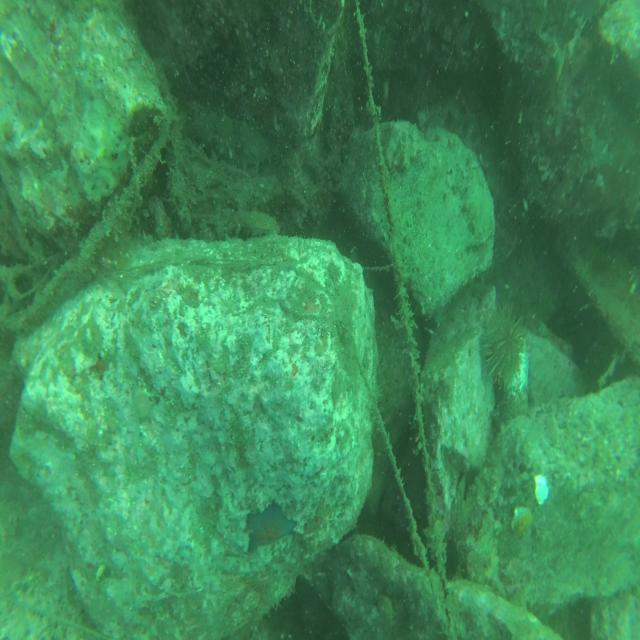echinus: (483, 300, 528, 392)
holothurian: (185, 99, 275, 174)
starfish: (245, 499, 299, 561)
